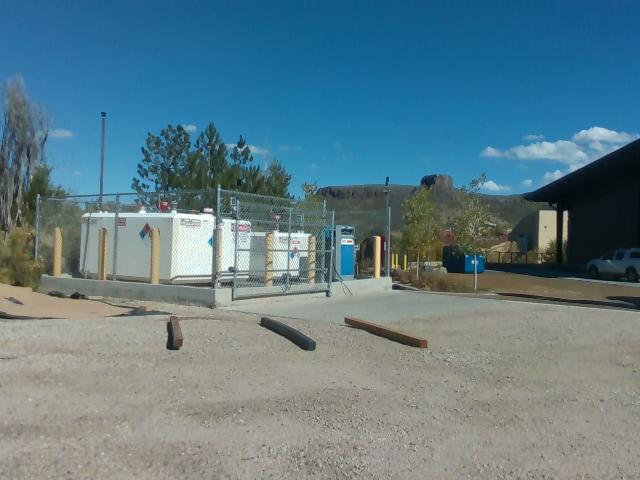dunnage: (163, 312, 435, 354)
